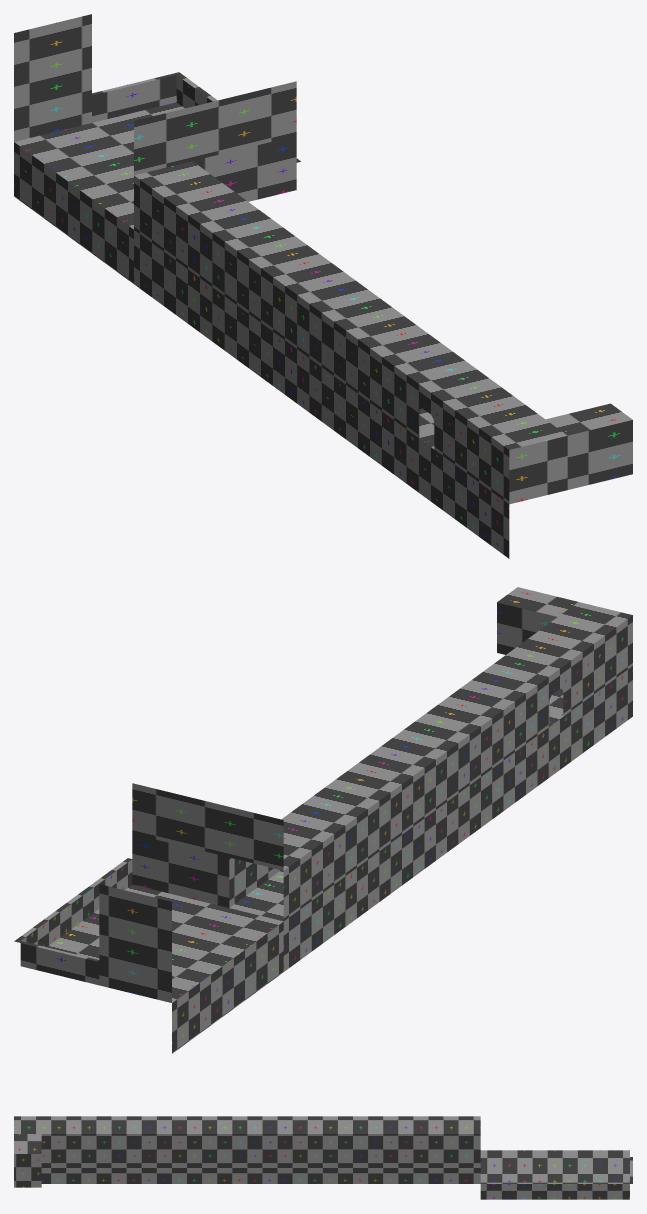
The model's file is scenario_prototype_exterior_floor_01_middle.fbx.
The picture shows the model from 3 angles, top to bottom: view 1: azimuth 30°, elevation 25°; view 2: azimuth 150°, elevation 25°; view 3: azimuth 270°, elevation 25°; orthographic projection. The views are drawn at different scales.
Visible parts, largest first — view 1: exterior_garden; view 2: exterior_garden; view 3: exterior_garden.
Boxes of the visible parts, x1,y1,x2,y2 form: exterior_garden: [14, 14, 632, 558]; exterior_garden: [14, 587, 632, 1053]; exterior_garden: [14, 1116, 632, 1199].
Bounding box in the file's own units: 1289 × 1201 × 6631.
